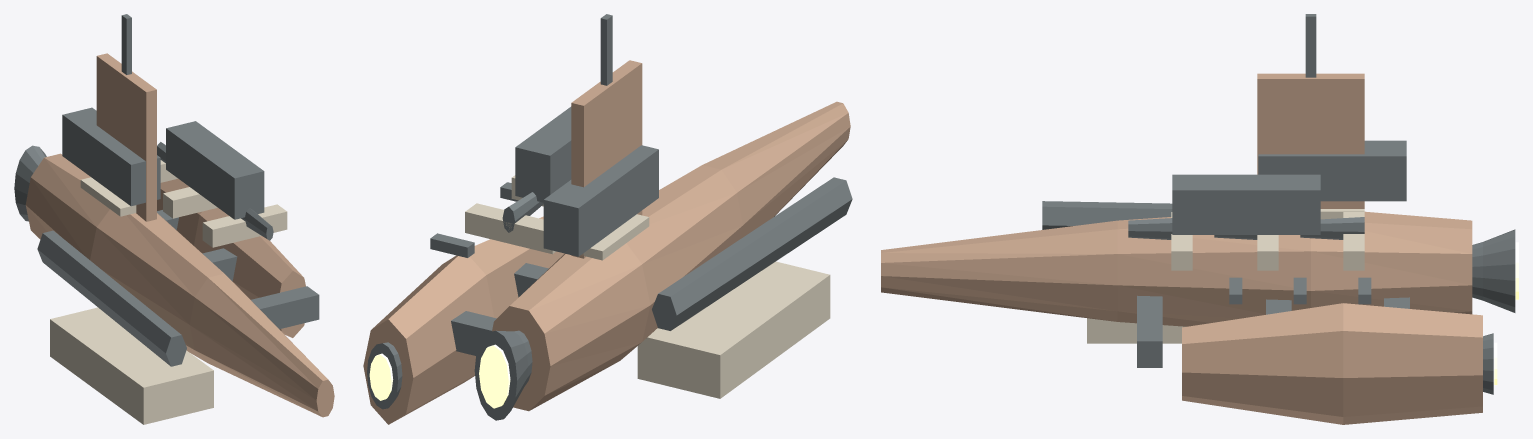
The picture shows the model from 3 angles, left to right: view 1: azimuth 30°, elevation 25°; view 2: azimuth 150°, elevation 25°; view 3: azimuth 270°, elevation 25°; orthographic projection. The views are drawn at different scales.
Size of the model in its own units: 4.45 by 6.31 by 10.33.
